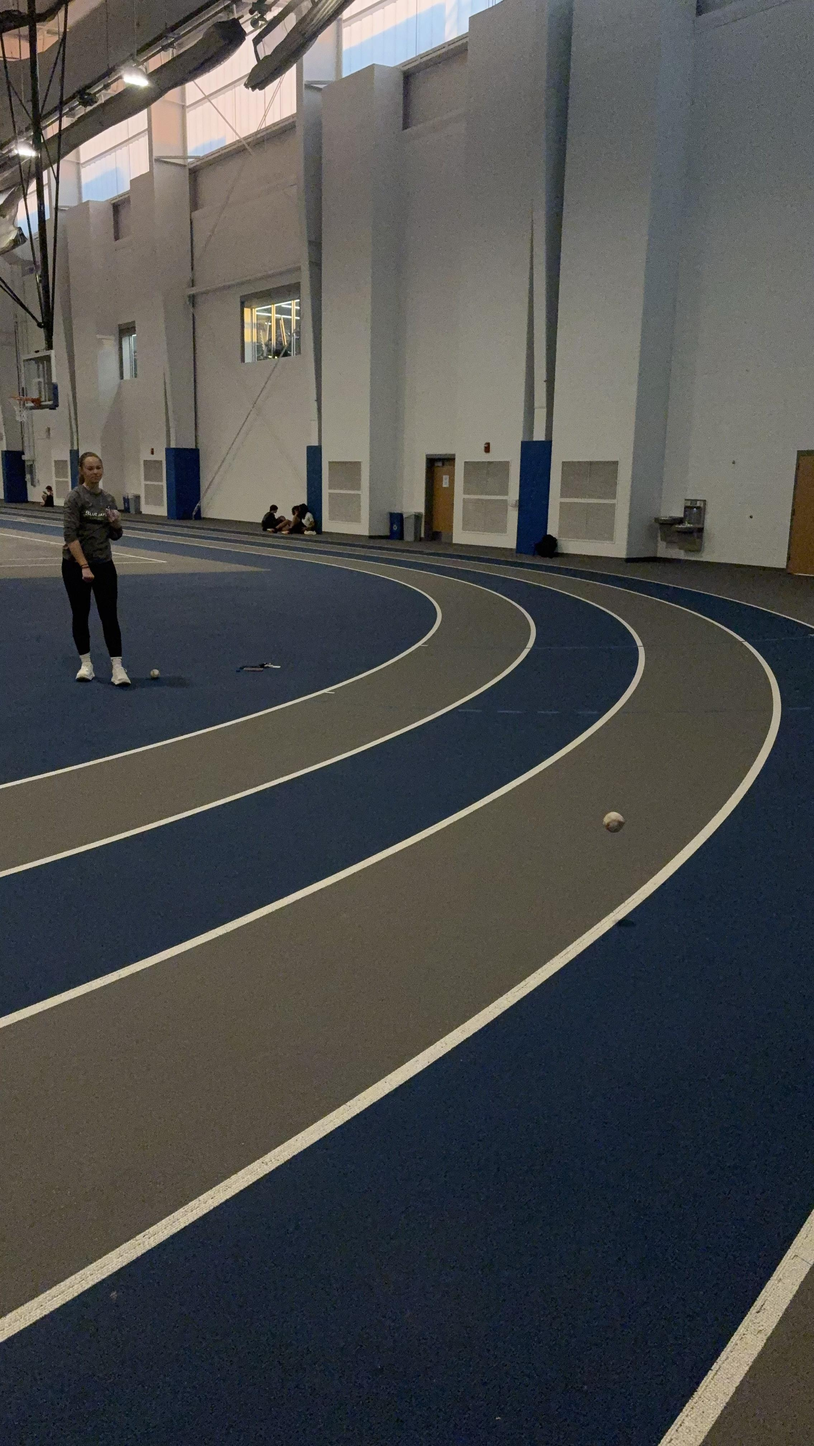Baseball: (598, 808, 629, 836), (147, 665, 163, 681)
